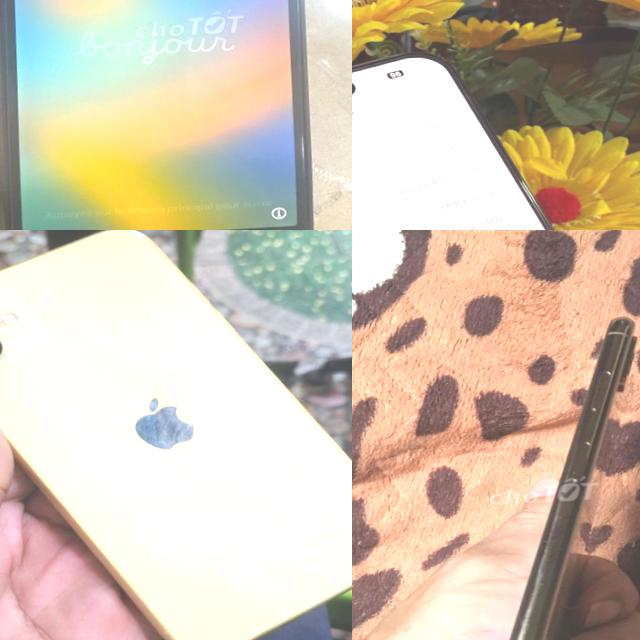gen_11: (0, 230, 352, 640)
gen_15: (352, 38, 640, 230)
gen_x_xs: (508, 317, 635, 640)
